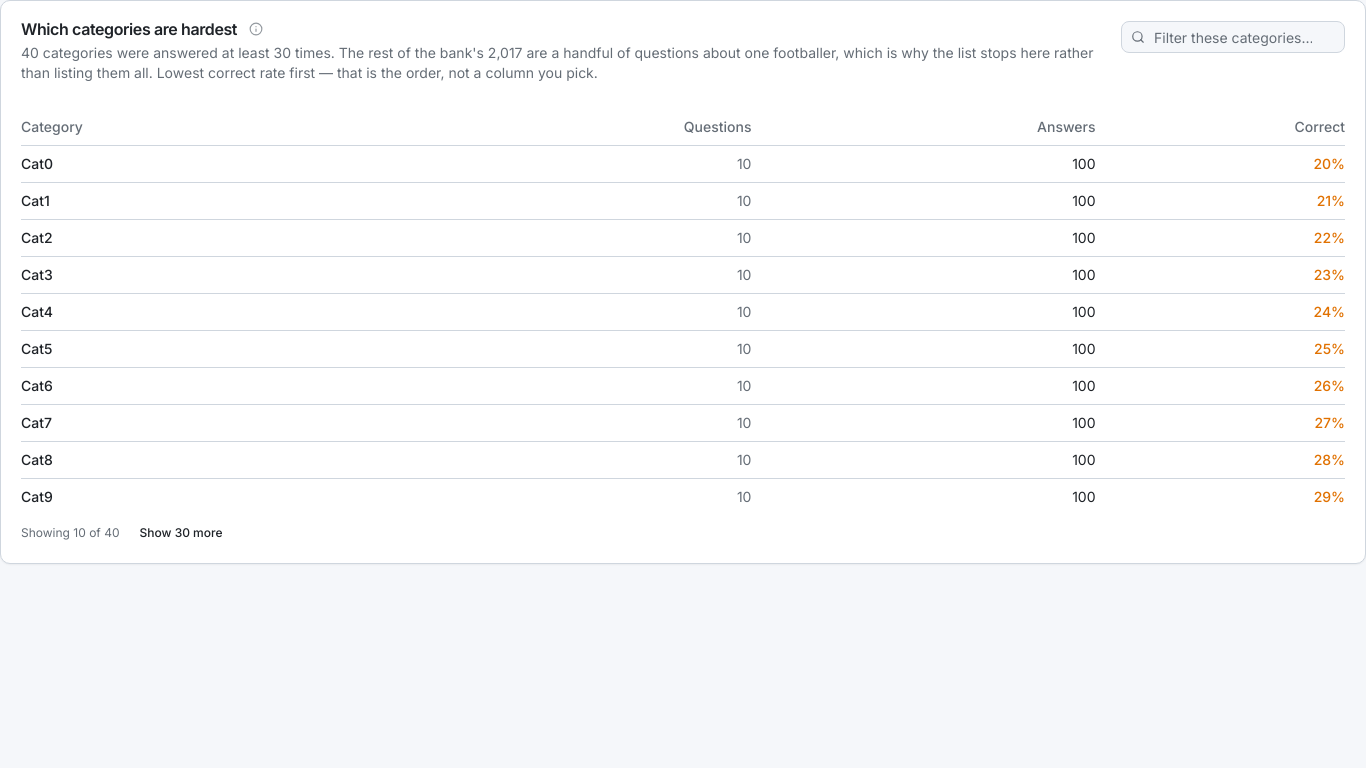
it: categoryQuality › counts the FILTERED list, not the whole one
This screenshot has width=1366, height=768.
Type "Cat1" into the field named "Filter categories in this table".
click(1233, 37); type("Cat1")  # box [1121,21,1345,53]
Wait 400 ms
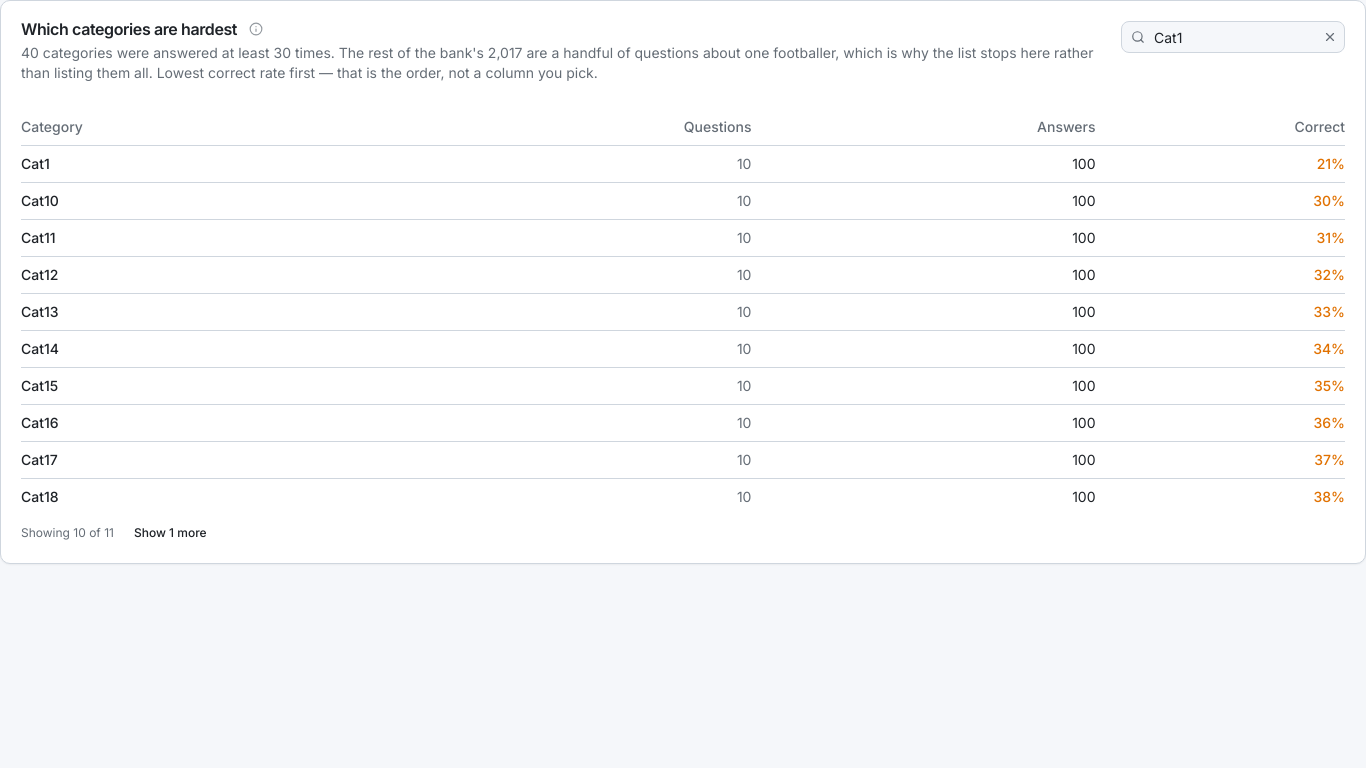
Check: the text "Showing 10 of 11" is shown, box [21,525,114,541]
